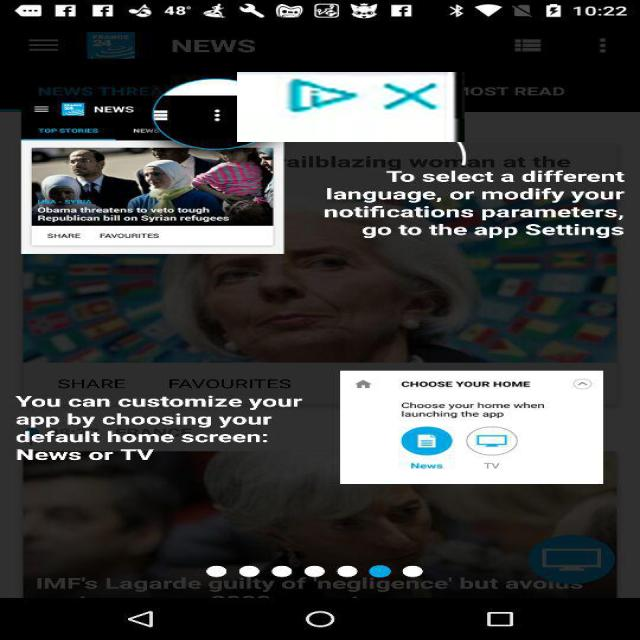sneaking: (237, 72, 465, 142)
